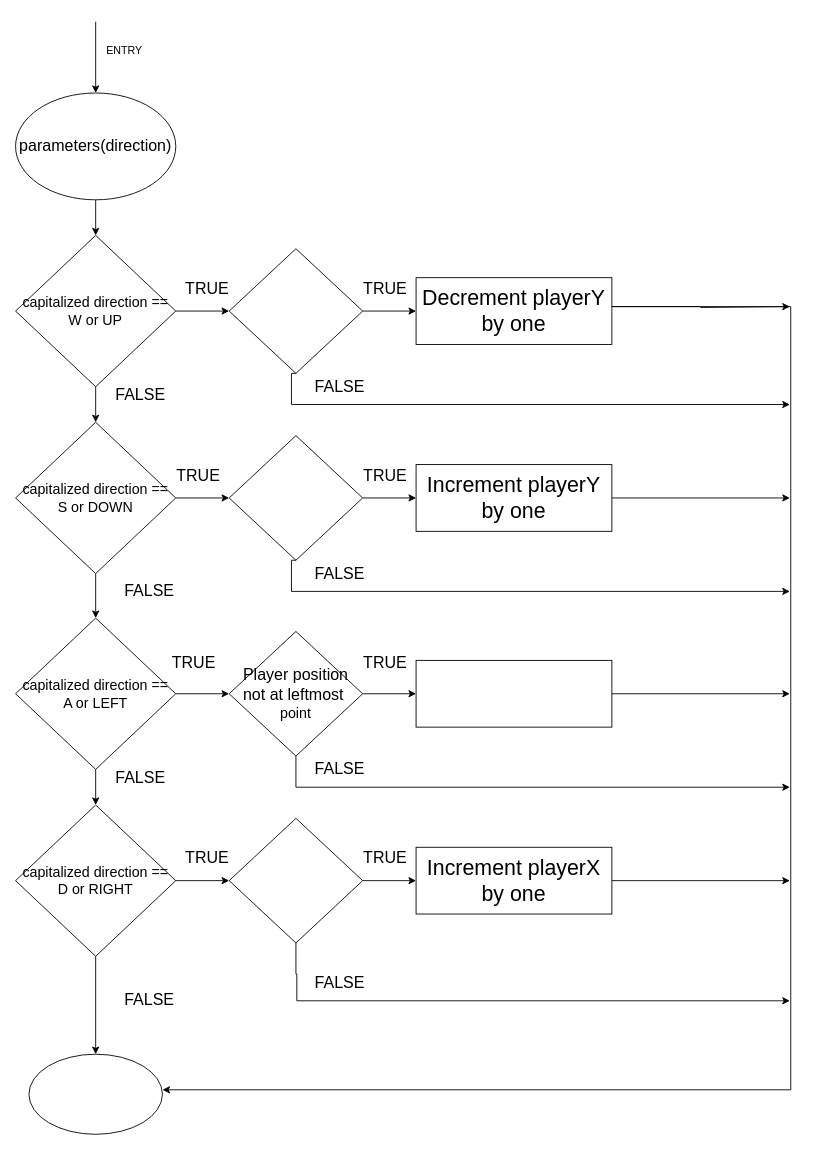
Some shapes in this 813 by 1150 pixel diagram are drawn without their labels. Here are the shapes that lost their labels. From the top down, the box of each, then its label:
(228, 248, 363, 373): Player position not at maximum height
(228, 435, 363, 560): Player position not at minimum height
(415, 659, 612, 727): Decrement playerX by one
(228, 817, 363, 943): Player position not at rightmost point
(28, 1053, 162, 1134): END
